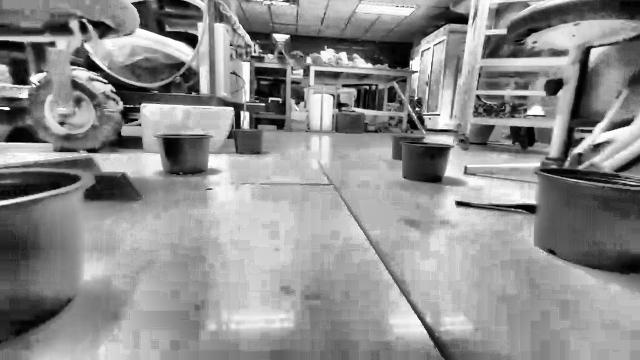pot: (0, 169, 92, 344), (536, 169, 639, 272), (154, 134, 211, 176), (401, 141, 452, 182), (392, 134, 422, 159), (233, 129, 262, 152)
